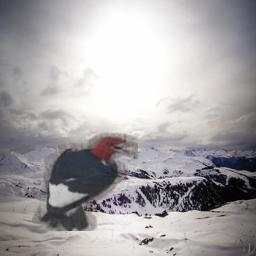Woodpecker: (32, 132, 138, 231)
